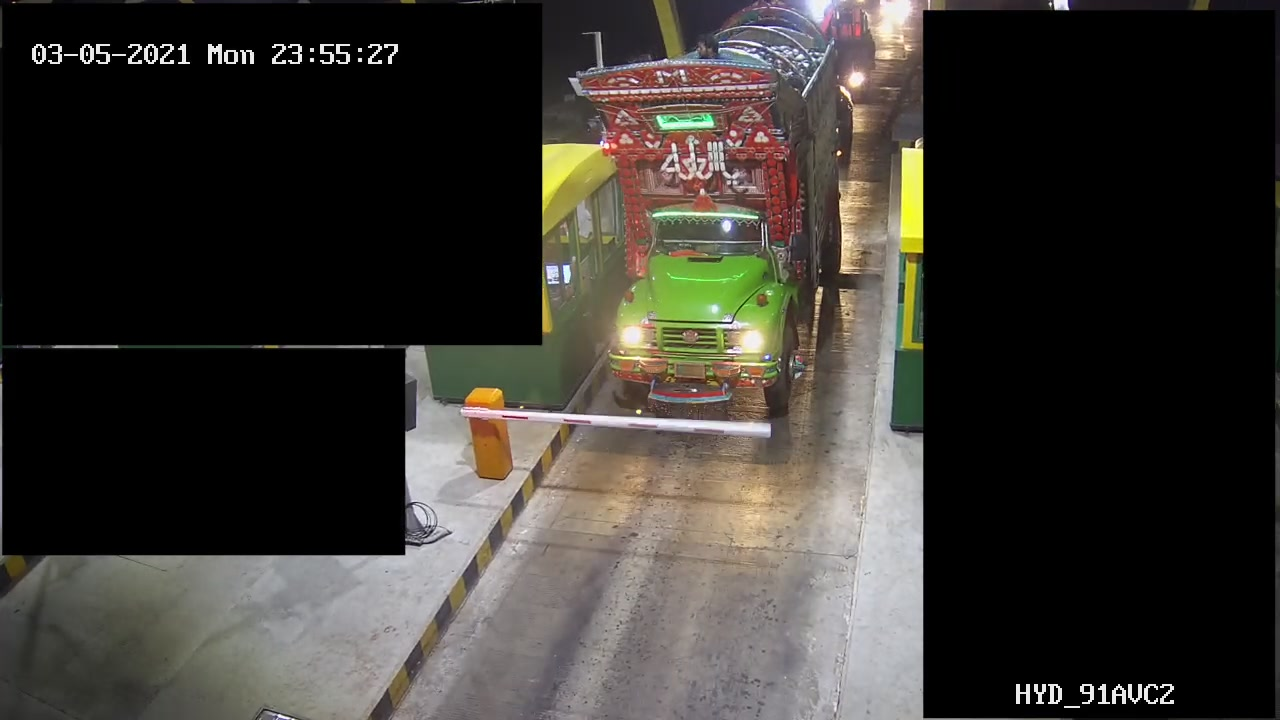F5: (577, 1, 843, 430)
